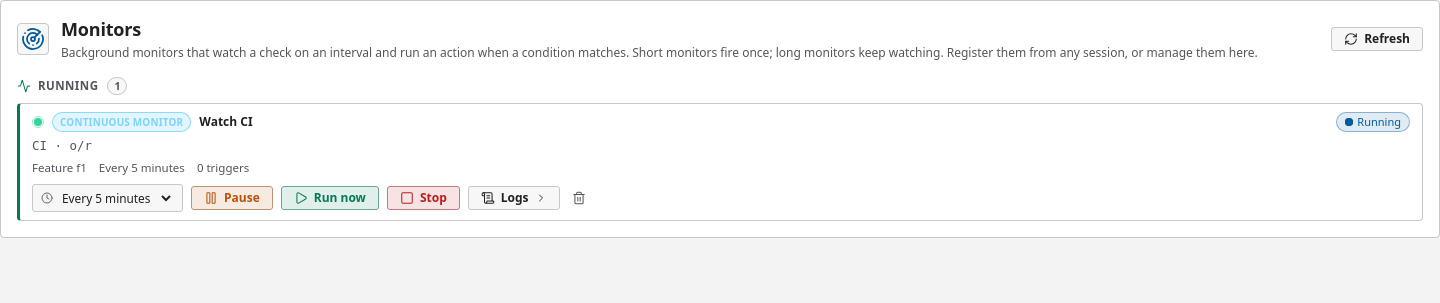
AutomationsView › expands detailed logs and lists runs
expect the text "Watch CI" is shown: met, box [199, 113, 253, 130]
Click the button "Logs": x=514, y=198 [468, 186, 560, 210]
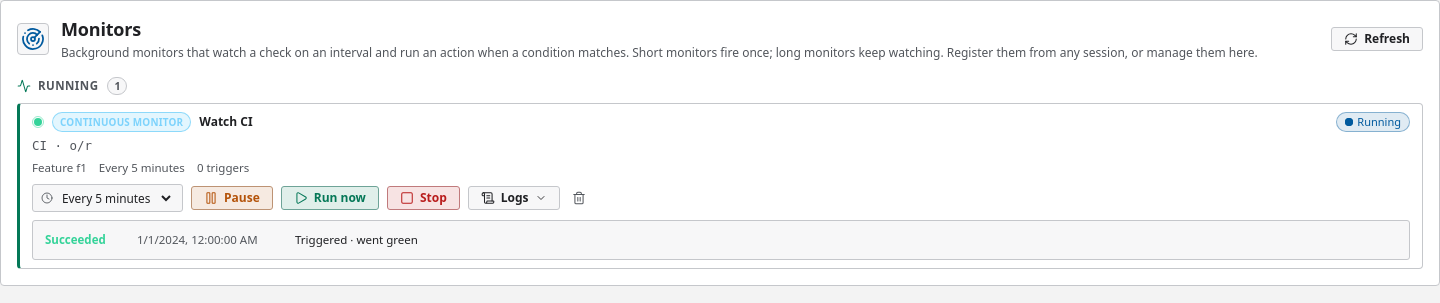
expect the text "Triggered · went green" is shown: met, box [295, 232, 418, 247]
expect the text "Succeeded" is shown: met, box [45, 232, 106, 247]
